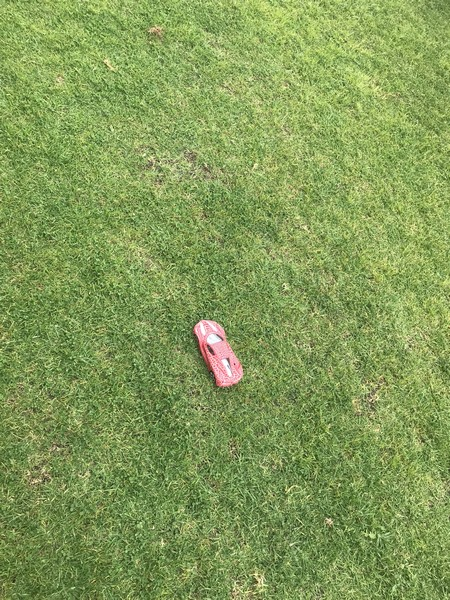RC: (192, 318, 246, 390)
